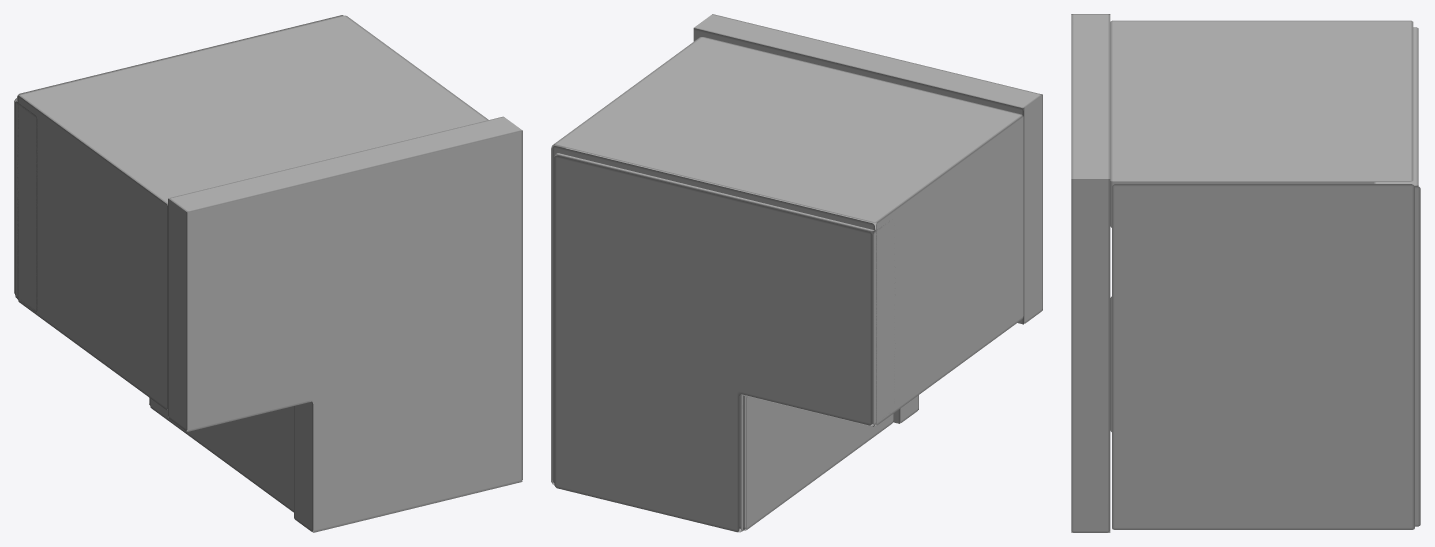
Rendered from pz_counter_dark_oak_corner.obj.
The picture shows the model from 3 angles, left to right: view 1: azimuth 30°, elevation 25°; view 2: azimuth 150°, elevation 25°; view 3: azimuth 270°, elevation 25°; orthographic projection. The views are drawn at different scales.
Size of the model in its own units: 1 by 1 by 0.895.
Materials: 1 (1 with a texture image).
